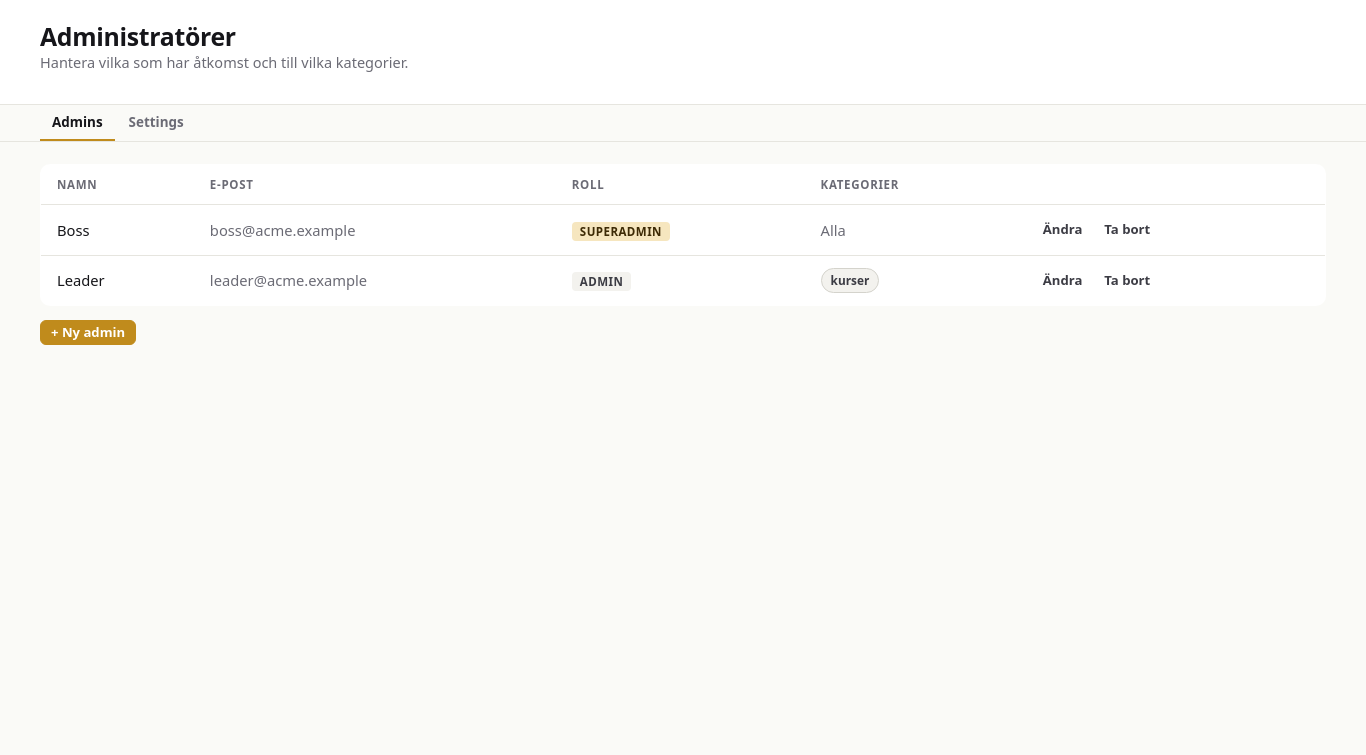
Test: AdminsView (integration with fetch shim) › swaps the admin table for the settings panel
Step 1. Click the button with test id "tab-settings" → (156, 123), box left=117, top=104, right=196, bottom=141
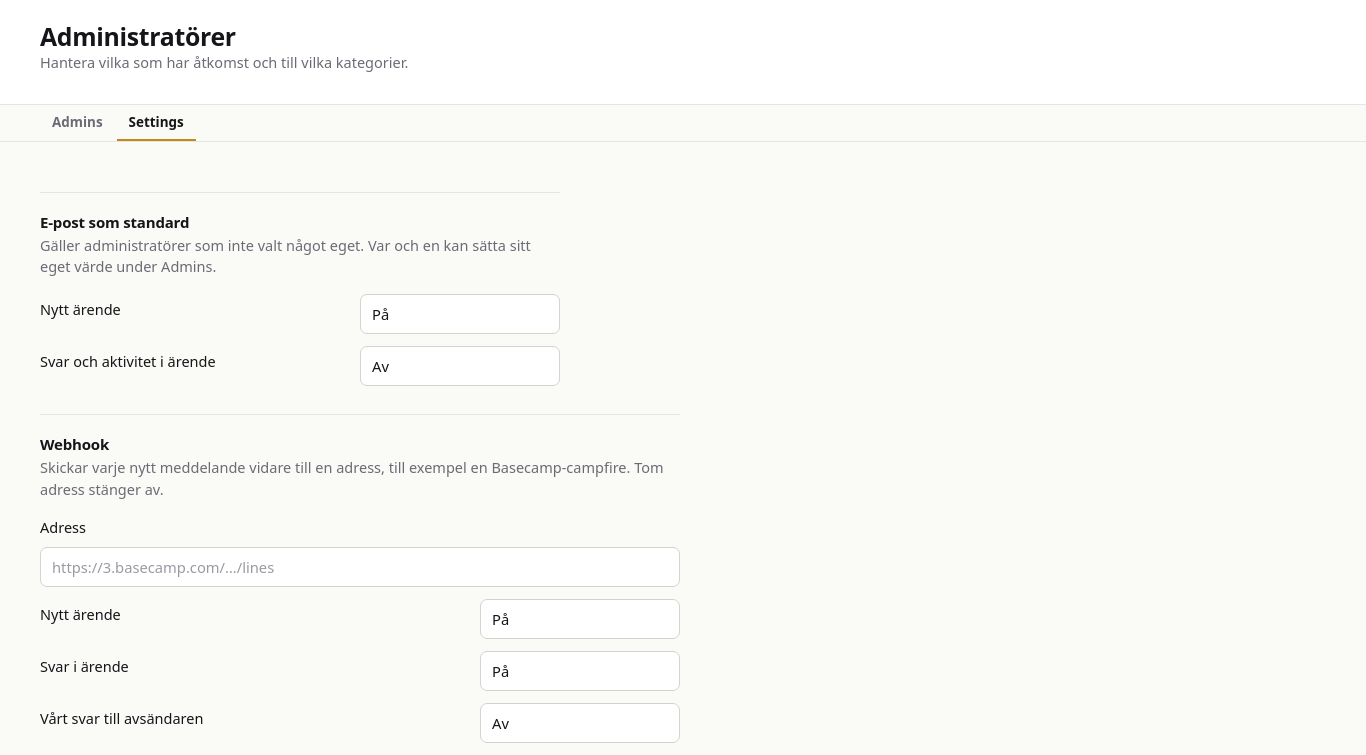
Now the dropdown with test id "default-notify-reply" is shown, box left=360, top=346, right=560, bottom=386
Now the field with test id "webhook-url" is shown, box left=40, top=547, right=680, bottom=587
Step 2. Click the button with test id "tab-admins" → (77, 123), box left=40, top=104, right=115, bottom=141
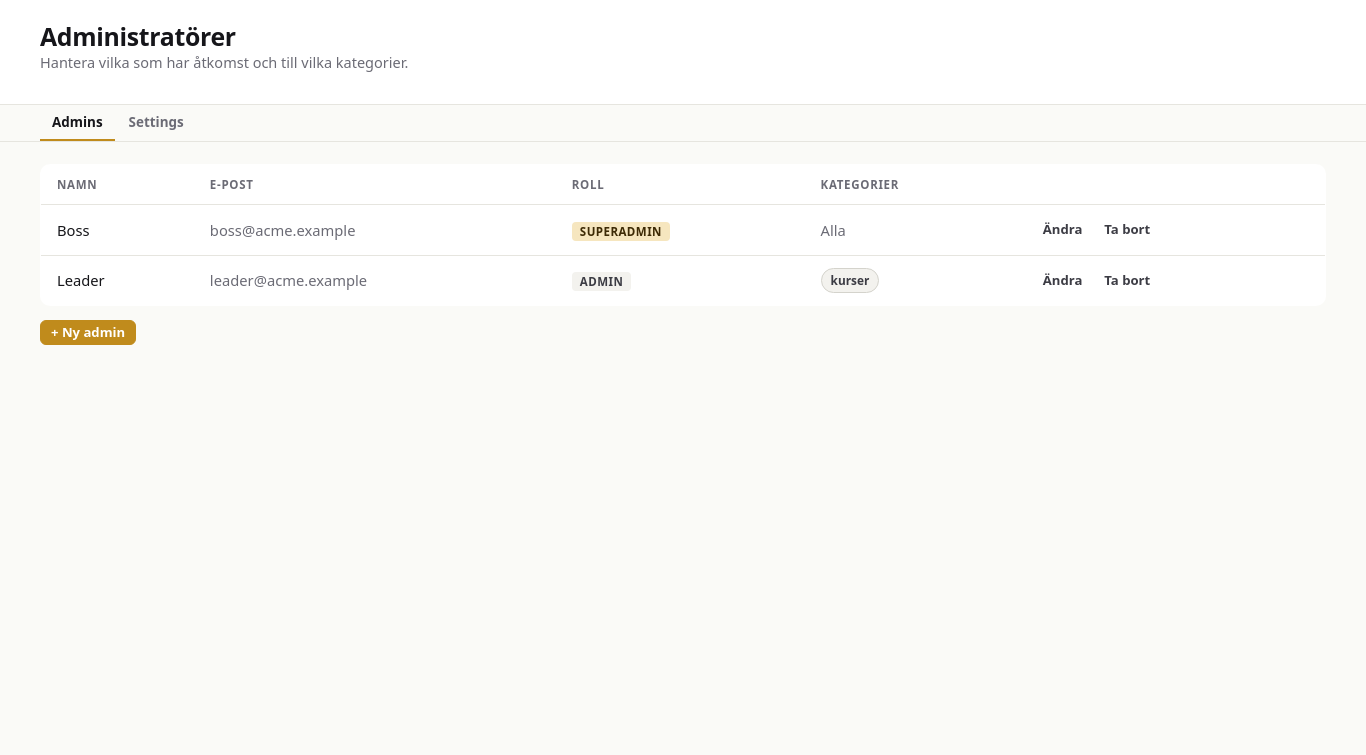
Now the table with class "admin-table" is shown, box left=40, top=164, right=1326, bottom=306
